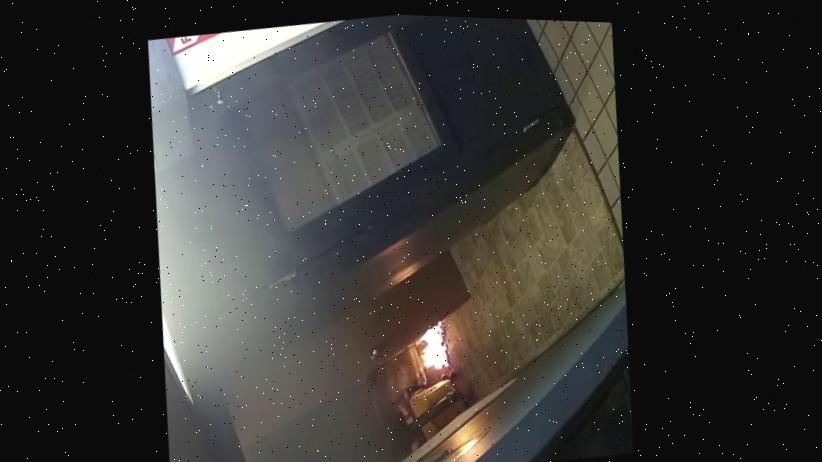fire: (375, 287, 480, 395)
